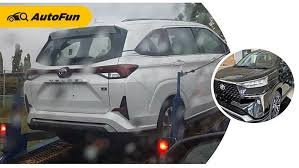mobil: (32, 18, 218, 131)
